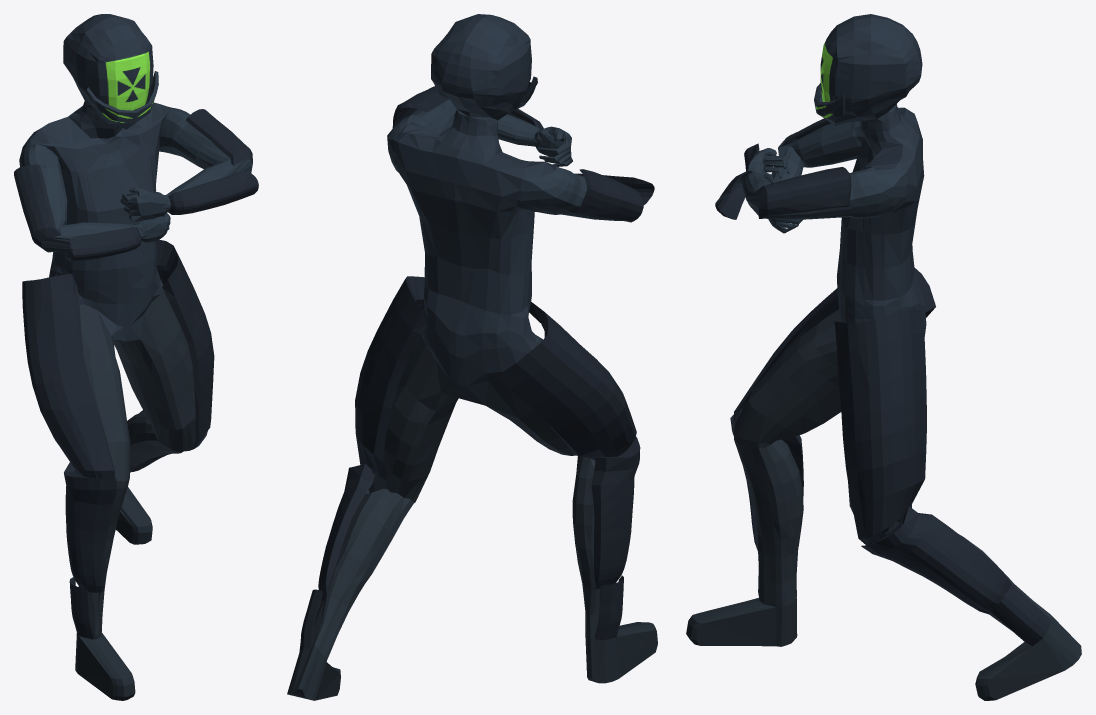
File: Bastion_WB_000024.obj
3 renders of one model, left to right at view 1: azimuth 30°, elevation 25°; view 2: azimuth 150°, elevation 25°; view 3: azimuth 270°, elevation 25°, orthographic. The views are drawn at different scales.
Visible parts, largest first — view 1: Cube.002; view 2: Cube.002; view 3: Cube.002.
Boxes of the visible parts, x1,y1,x2,y2 form: Cube.002: [14, 14, 258, 700]; Cube.002: [287, 14, 657, 700]; Cube.002: [686, 14, 1081, 700].
Size of the model in its own units: 1.37 by 3.62 by 1.97.
